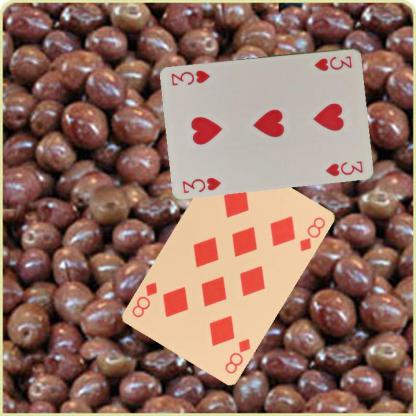3h: (180, 175, 223, 194), (312, 53, 354, 72)
8d: (222, 336, 252, 375)
